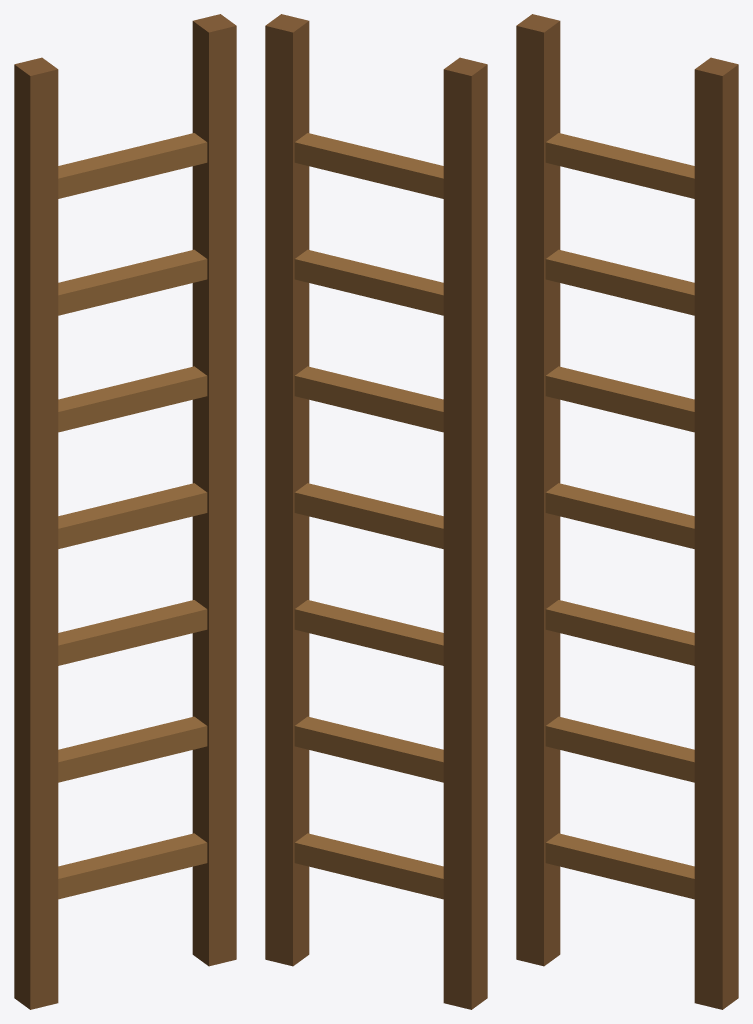
File: nt-ladder.glb
3 views of the same model, side by side, from view 1: azimuth 30°, elevation 25°; view 2: azimuth 150°, elevation 25°; view 3: azimuth 330°, elevation 25° (orthographic).
Parts seen in each view (by area): view 1: box-prop; view 2: box-prop; view 3: box-prop.
Part boxes in pixels (<box>): box-prop: <box>14,14,236,1009</box>; box-prop: <box>265,14,487,1009</box>; box-prop: <box>516,14,738,1009</box>.
Size of the model in its own units: 0.74 by 3.2 by 0.1.
